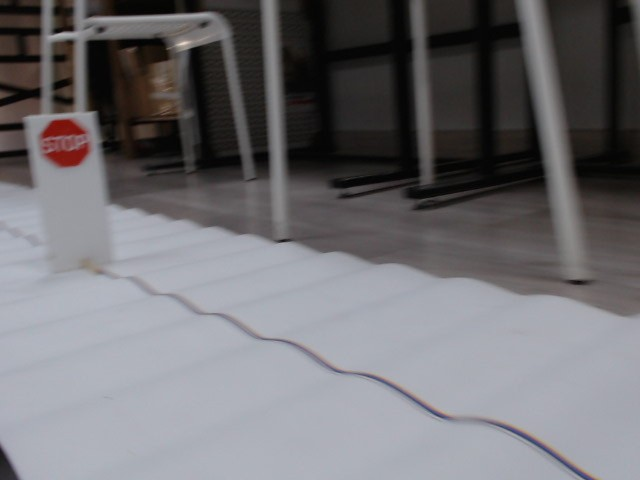Stop: (36, 119, 92, 167)
